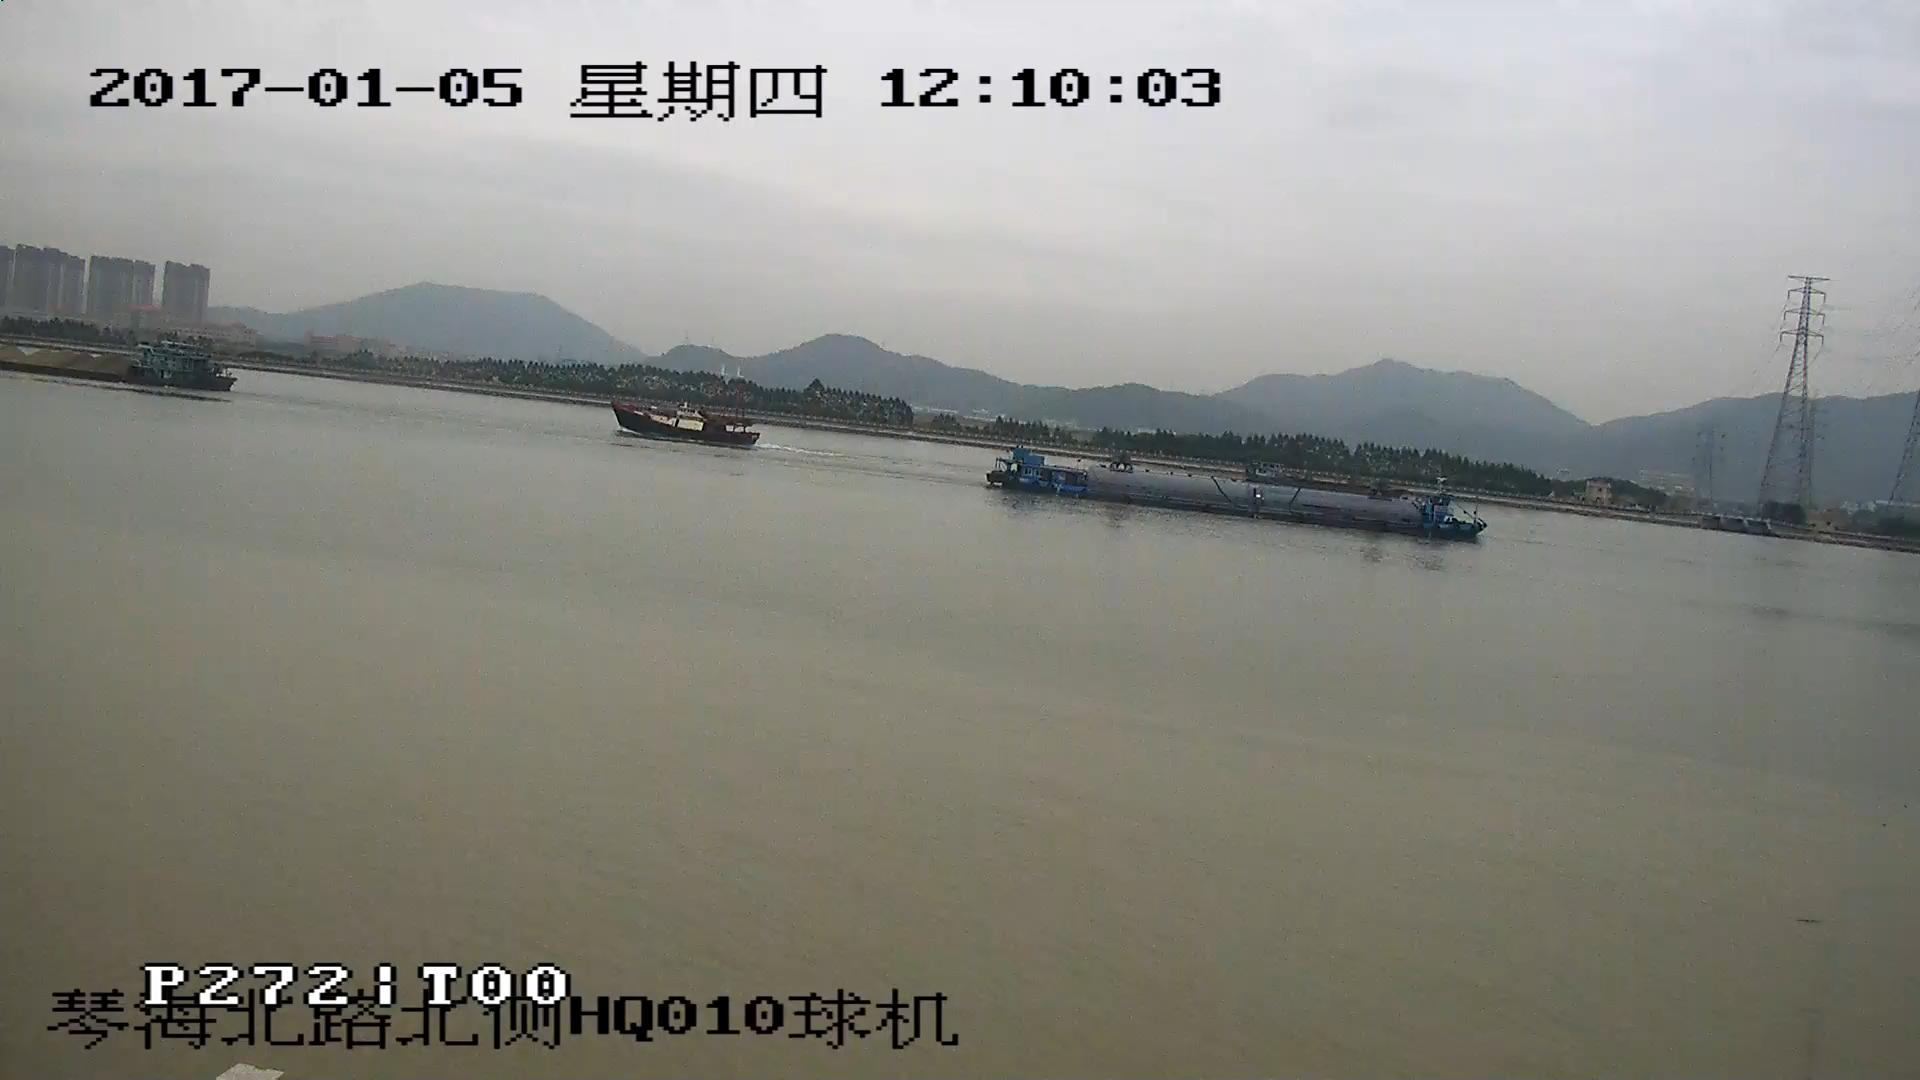bulk cargo carrier: (987, 448, 1479, 538)
fishing boat: (611, 394, 765, 453)
ore carrier: (1, 341, 231, 394)
